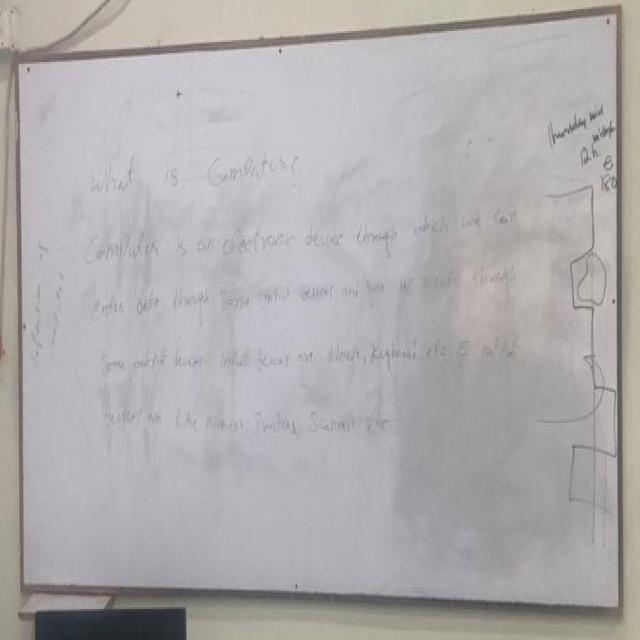White-board: (19, 15, 624, 603)
